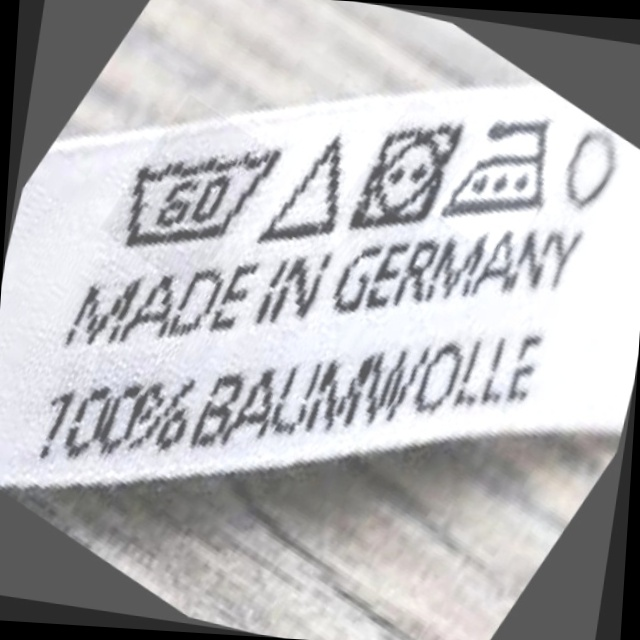60C: (102, 106, 289, 275)
bleach: (261, 117, 364, 264)
iron_high: (441, 93, 571, 244)
tumble_dry_medium: (348, 97, 467, 248)
